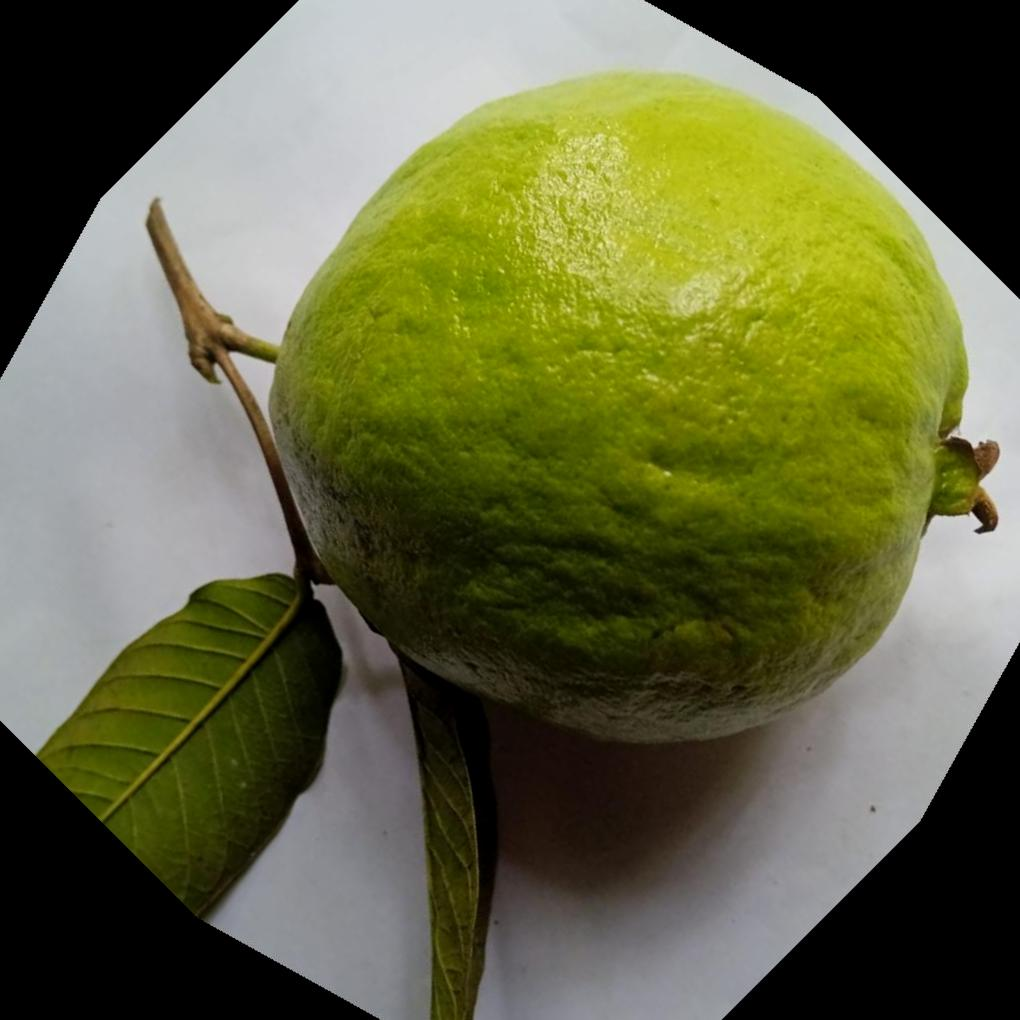FreshGuava: (267, 70, 994, 750)
